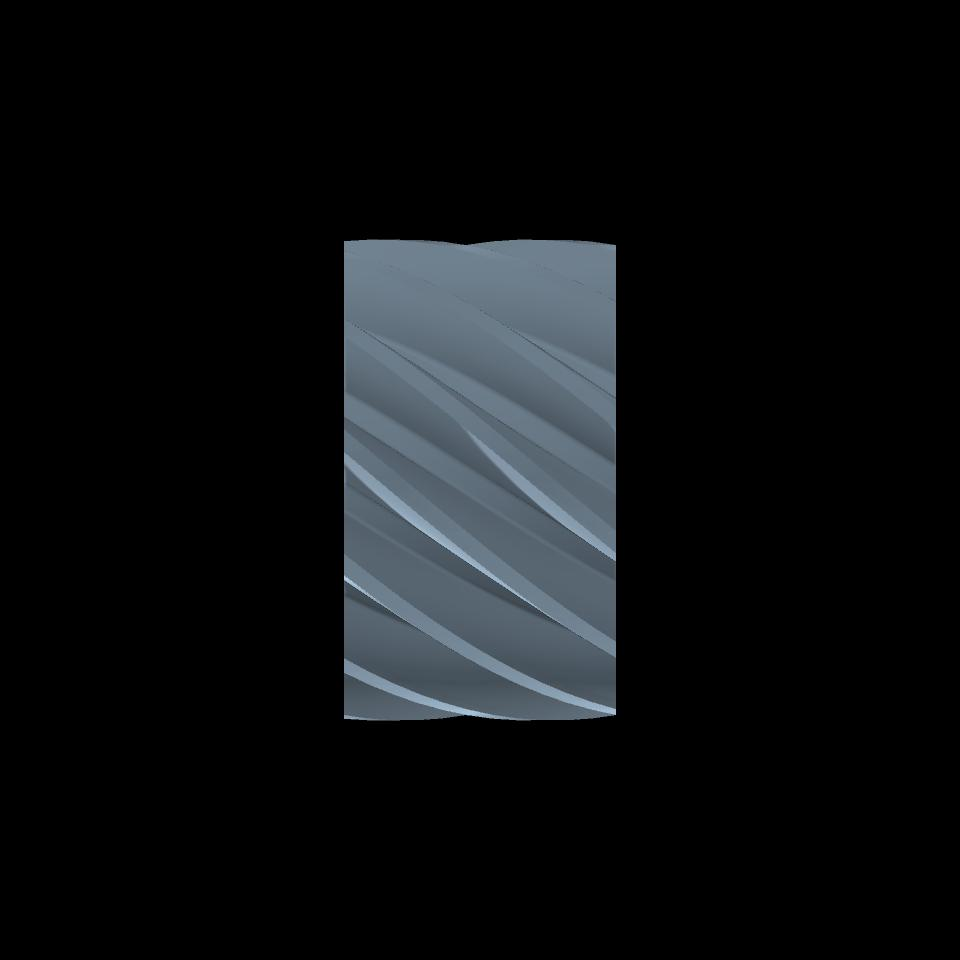Helical: (346, 239, 615, 718)
